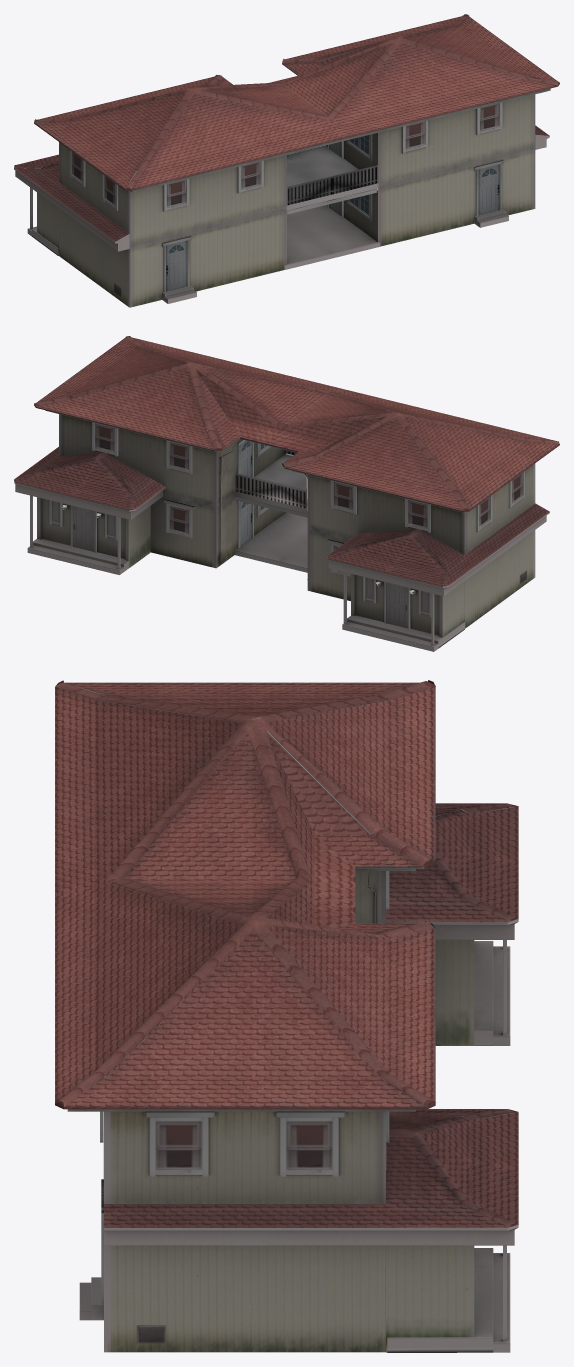
Rendered from building2.glb.
3 renders of one model, top to bottom at view 1: azimuth 30°, elevation 25°; view 2: azimuth 150°, elevation 25°; view 3: azimuth 270°, elevation 25°, orthographic. The views are drawn at different scales.
Parts seen in each view (by area): view 1: City_building_026; view 2: City_building_026; view 3: City_building_026.
Boxes of the visible parts, left/top/right/bottom form: City_building_026: left=14, top=14, right=559, bottom=307; City_building_026: left=14, top=336, right=559, bottom=651; City_building_026: left=55, top=680, right=518, bottom=1352.
Bounding box in the file's own units: 159 × 58.43 × 73.32.
Materials: 1 (1 with a texture image).
